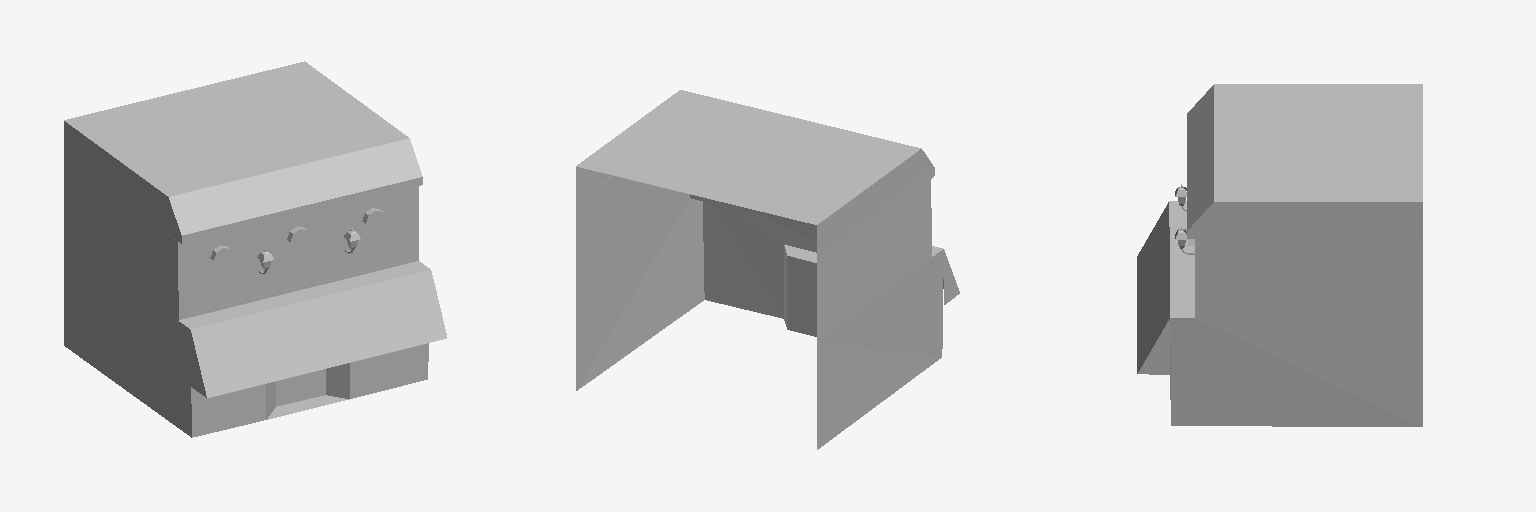
File: store2.obj
3 renders of one model, left to right at view 1: azimuth 30°, elevation 25°; view 2: azimuth 150°, elevation 25°; view 3: azimuth 270°, elevation 25°, orthographic.
Visible parts, largest first — view 1: Cube.005_Cube.011; view 2: Cube.005_Cube.011; view 3: Cube.005_Cube.011.
Part boxes in pixels (x1,y1,x2,y2): Cube.005_Cube.011: (64, 61, 446, 437); Cube.005_Cube.011: (576, 90, 959, 449); Cube.005_Cube.011: (1137, 84, 1422, 426).
Bounding box in the file's own units: 34.11 × 30.43 × 35.12.